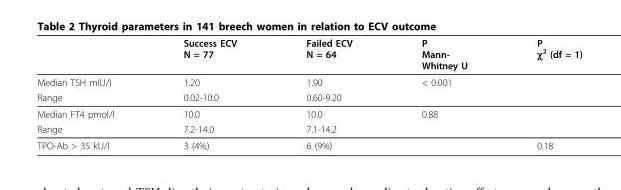table: (36, 36, 581, 150)
table column: (148, 36, 270, 150), (270, 36, 386, 150), (386, 36, 501, 150), (36, 36, 148, 150), (501, 36, 581, 150)
table column header: (36, 36, 581, 73)
table row: (36, 36, 581, 73), (36, 73, 581, 89), (36, 89, 581, 105), (36, 105, 581, 121), (36, 121, 581, 136), (36, 136, 581, 150)
